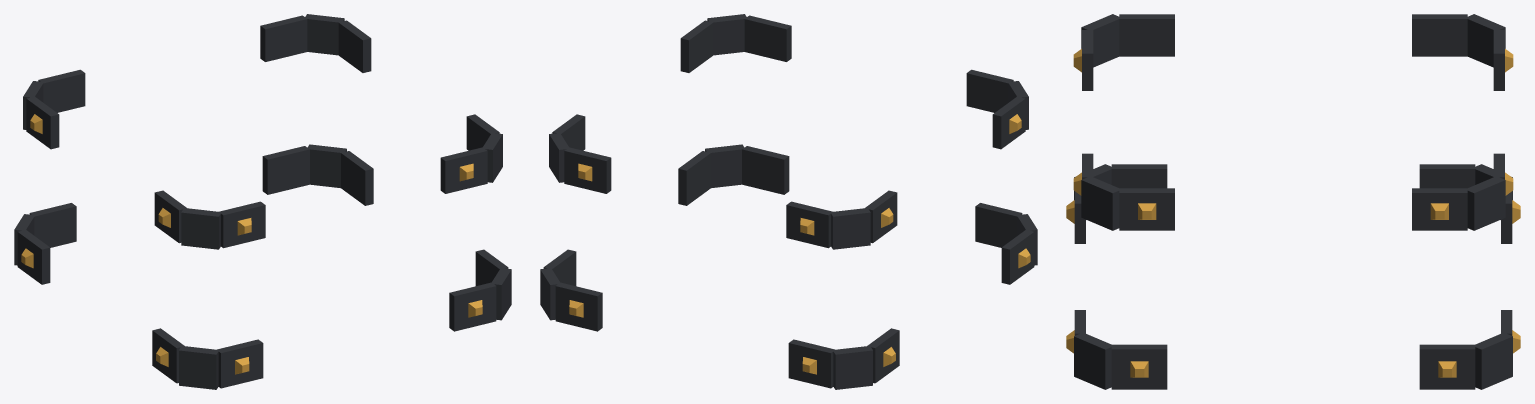
The model's file is MortarKit2.obj.
3 views of the same model, side by side, from view 1: azimuth 30°, elevation 25°; view 2: azimuth 150°, elevation 25°; view 3: azimuth 270°, elevation 25° (orthographic). The views are drawn at different scales.
Parts seen in each view (by area): view 1: MortarKit2; view 2: MortarKit2; view 3: MortarKit2.
Part boxes in pixels (x1,y1,x2,y2): MortarKit2: (14,14,511,389); MortarKit2: (540,14,1037,389); MortarKit2: (1066,14,1520,389).
Size of the model in its own units: 1.23 by 0.576 by 1.23.
